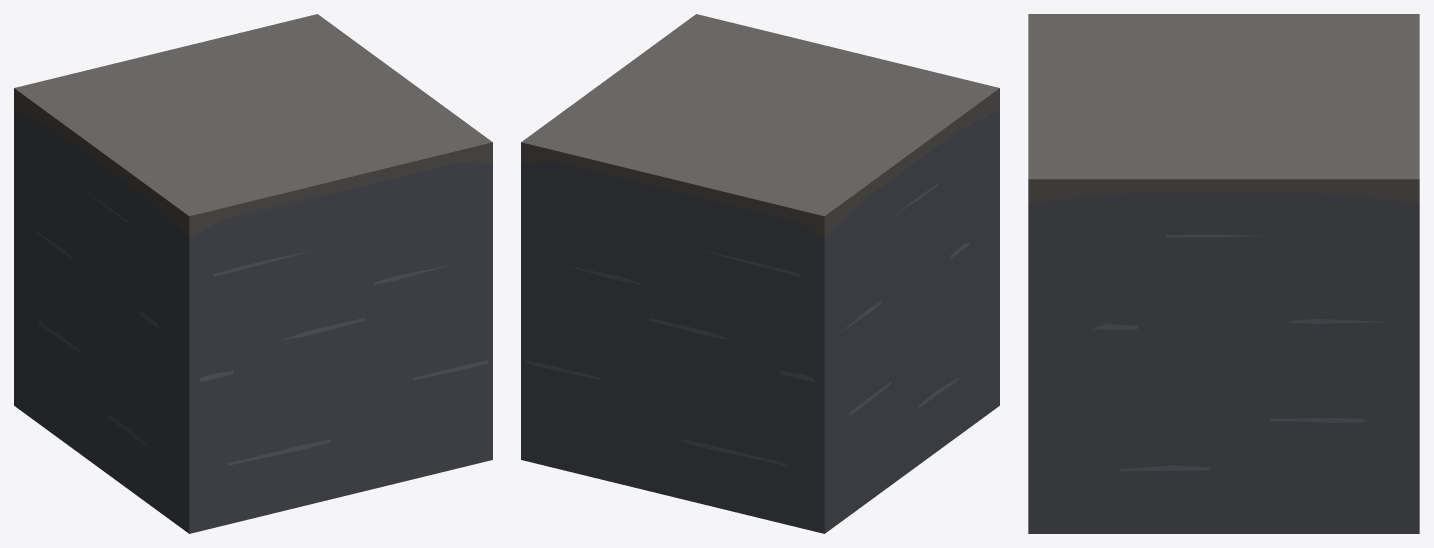
Rendered from 20C_upstairs02.fbx.
The picture shows the model from 3 angles, left to right: view 1: azimuth 30°, elevation 25°; view 2: azimuth 150°, elevation 25°; view 3: azimuth 270°, elevation 25°; orthographic projection. The views are drawn at different scales.
Parts seen in each view (by area): view 1: 20C_upstairs02; view 2: 20C_upstairs02; view 3: 20C_upstairs02.
Part boxes in pixels (left/top/right/bottom): 20C_upstairs02: left=14, top=14, right=492, bottom=533; 20C_upstairs02: left=521, top=14, right=999, bottom=533; 20C_upstairs02: left=1028, top=14, right=1419, bottom=533.
Bounding box in the file's own units: 20 × 20 × 20.
